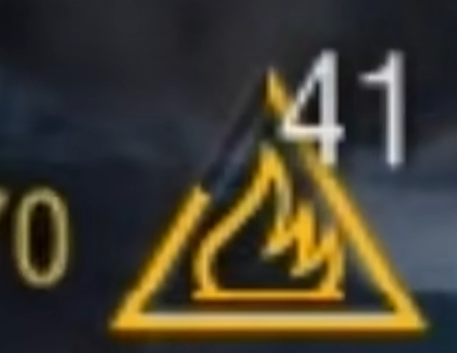1fire: (107, 170, 431, 336)
